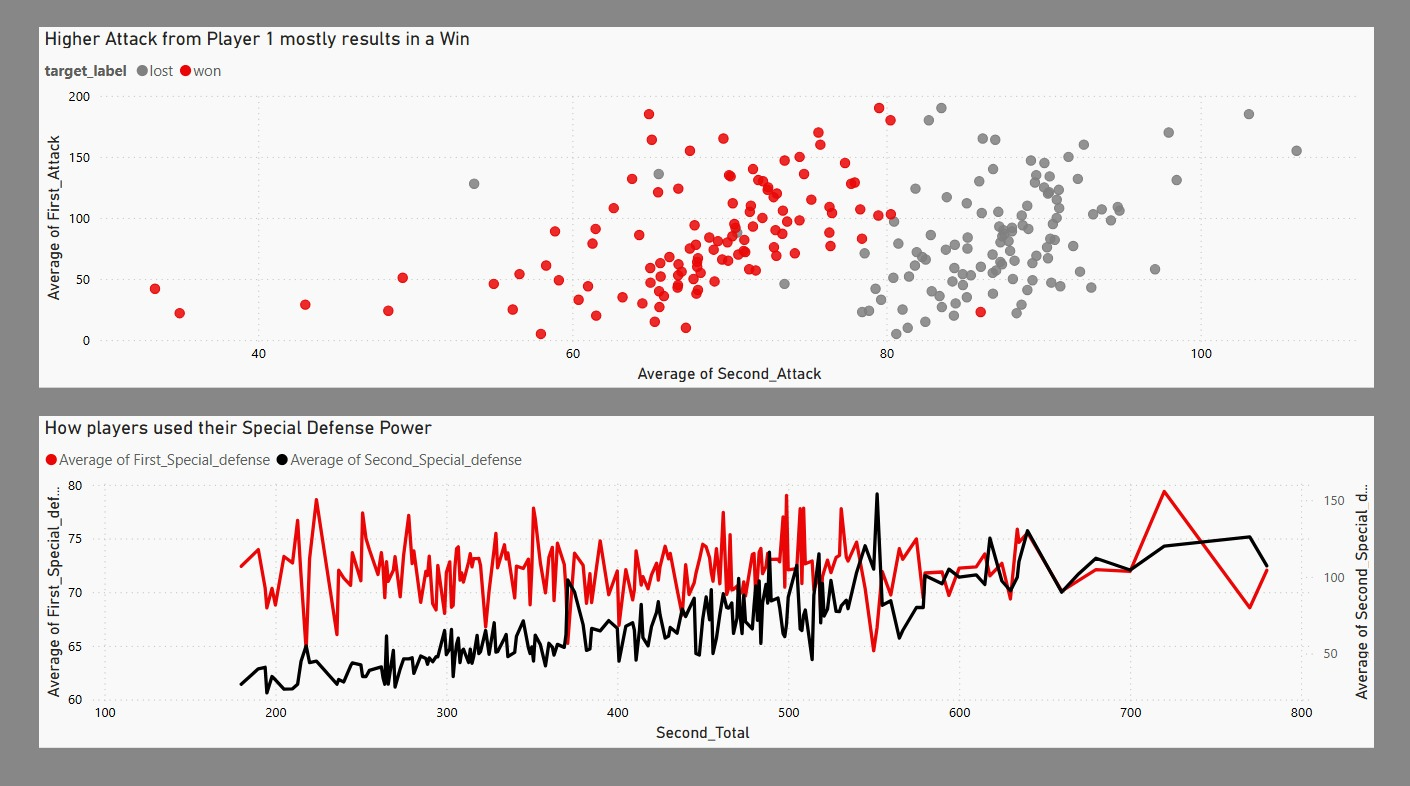

The page's visual inventory and layout, read from the dashboard file:
{"tool":"powerbi","page":{"name":"Player strategy","canvas":[1280,720],"ordinal":1},"visuals":[{"type":"scatterChart","title":"Higher Attack from Player 1 mostly results in a Win","fields":{"Category":["combined_ml.First_Attack"],"X":["Avg(combined_ml.Second_Attack)"],"Y":["Avg(combined_ml.First_Attack)"],"Series":["combined_ml.target_label"]},"box":[39,26.6,1203.3,325.4],"z":1000},{"type":"lineChart","title":"How players used their Special Defense Power","fields":{"Y":["Avg(combined_ml.First_Special_defense)"],"Y2":["Avg(combined_ml.Second_Special_defense)"],"Category":["combined_ml.Second_Total"]},"box":[39,377.7,1203.3,298.8],"z":3000}]}

Visuals, with their boxes in screenshot pixels (x1, y1, x2, y2), scaled from the page's 1280x720 canvas onto the 1410x786 screenshot:
"Higher Attack from Player 1 mostly results in a Win" scatterChart: 43:29:1368:384
"How players used their Special Defense Power" lineChart: 43:412:1368:739
